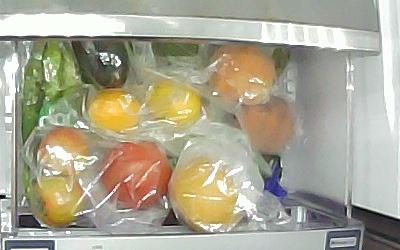peach_vinyl: (211, 44, 273, 102), (237, 95, 295, 153)
pear_vinyl: (170, 153, 238, 232)
tangerine_vinyl: (146, 81, 202, 127), (88, 89, 142, 131)
tomato_vinyl: (99, 139, 171, 211), (33, 172, 86, 229), (37, 128, 91, 177)
